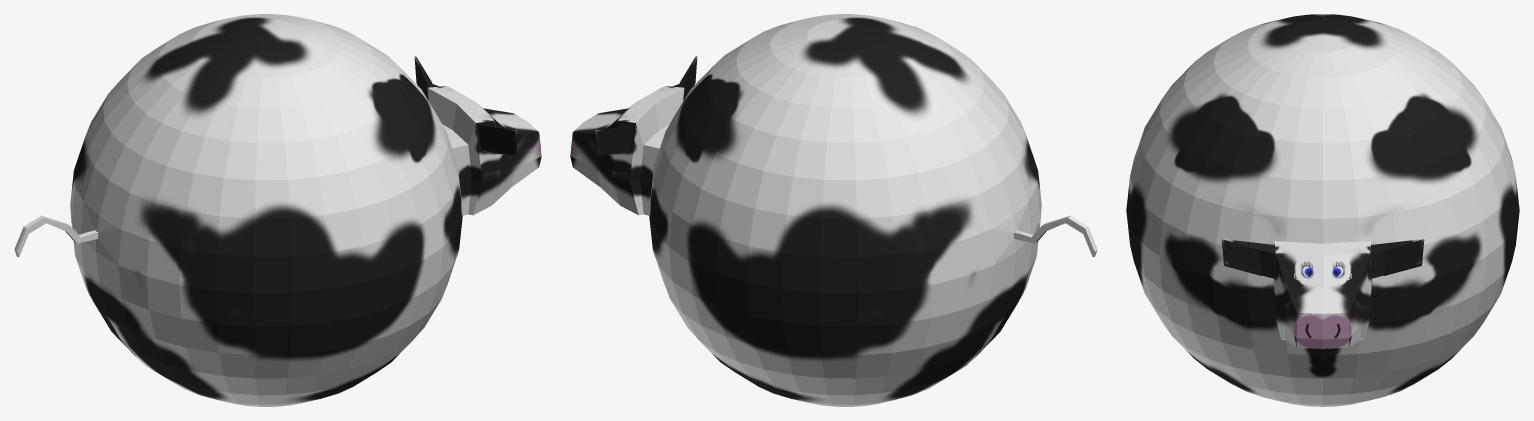
The model's file is cow.glb.
The picture shows the model from 3 angles, left to right: view 1: azimuth 30°, elevation 25°; view 2: azimuth 150°, elevation 25°; view 3: azimuth 270°, elevation 25°; orthographic projection.
Parts seen in each view (by area): view 1: cow; view 2: cow; view 3: cow.
Part boxes in pixels (<box>): cow: <box>14,14,541,406</box>; cow: <box>570,14,1097,406</box>; cow: <box>1126,14,1519,406</box>.
Bounding box in the file's own units: 6.05 × 4 × 4.
Materials: 1 (1 with a texture image).
